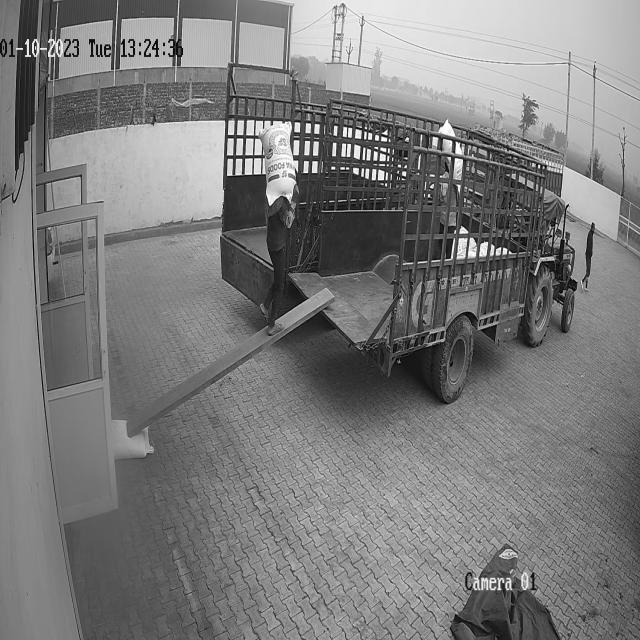sack: (258, 120, 296, 207), (112, 418, 153, 458)
